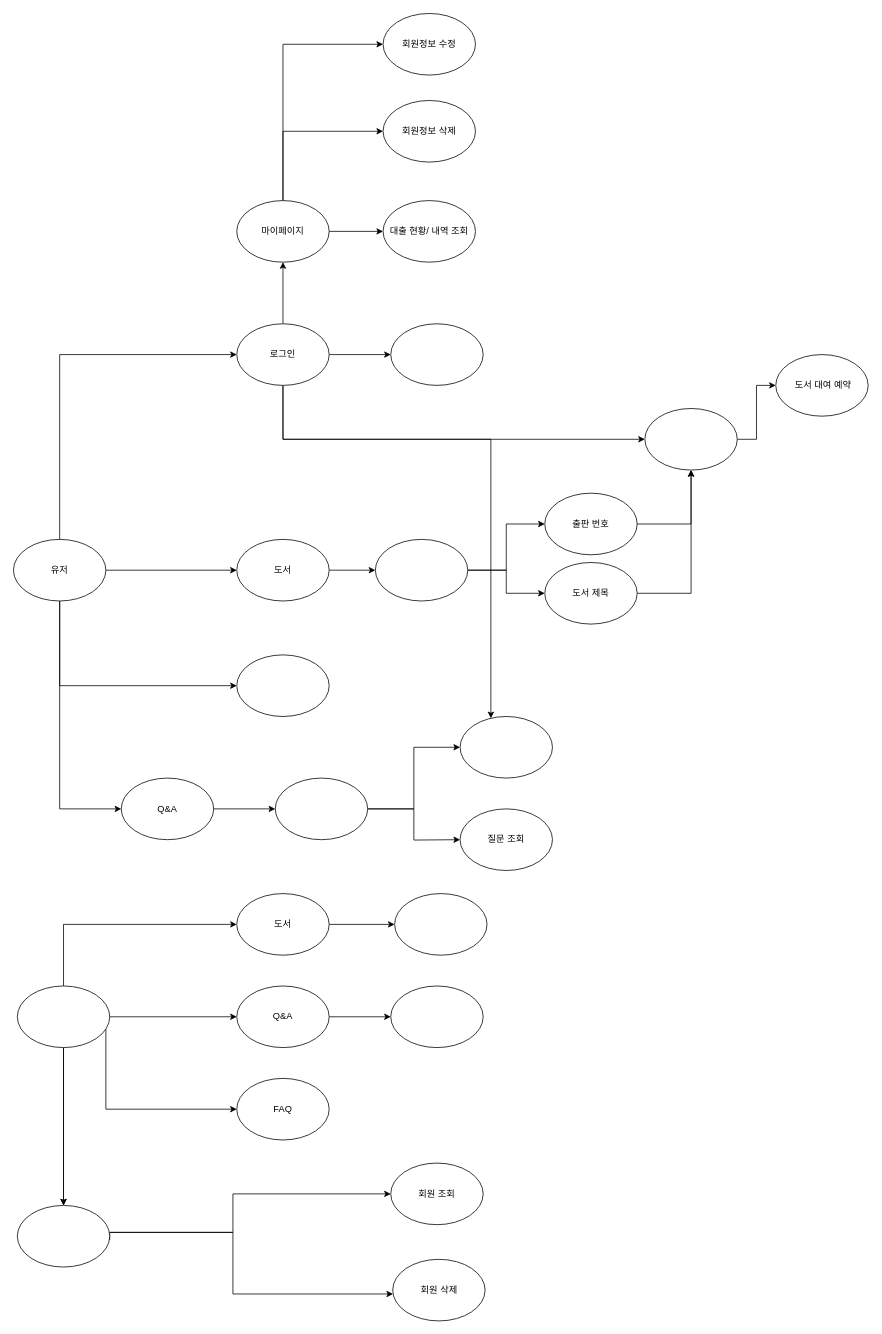
Some shapes in this 882 by 1334 pixel diagram are drawn without their labels. Here are the shapes that lost their labels. From the top down, the centre of each, then its label:
the point at 436,354: 회원가입
the point at 690,439: 도서 대여
the point at 421,570: 도서 검색
the point at 282,685: 열람실 좌석 조회 (여유 있으면 만들기)
the point at 505,747: 질문 등록
the point at 321,808: 질문
the point at 63,1016: 관리자
the point at 436,1016: 질문 답변
the point at 63,1236: 회원
